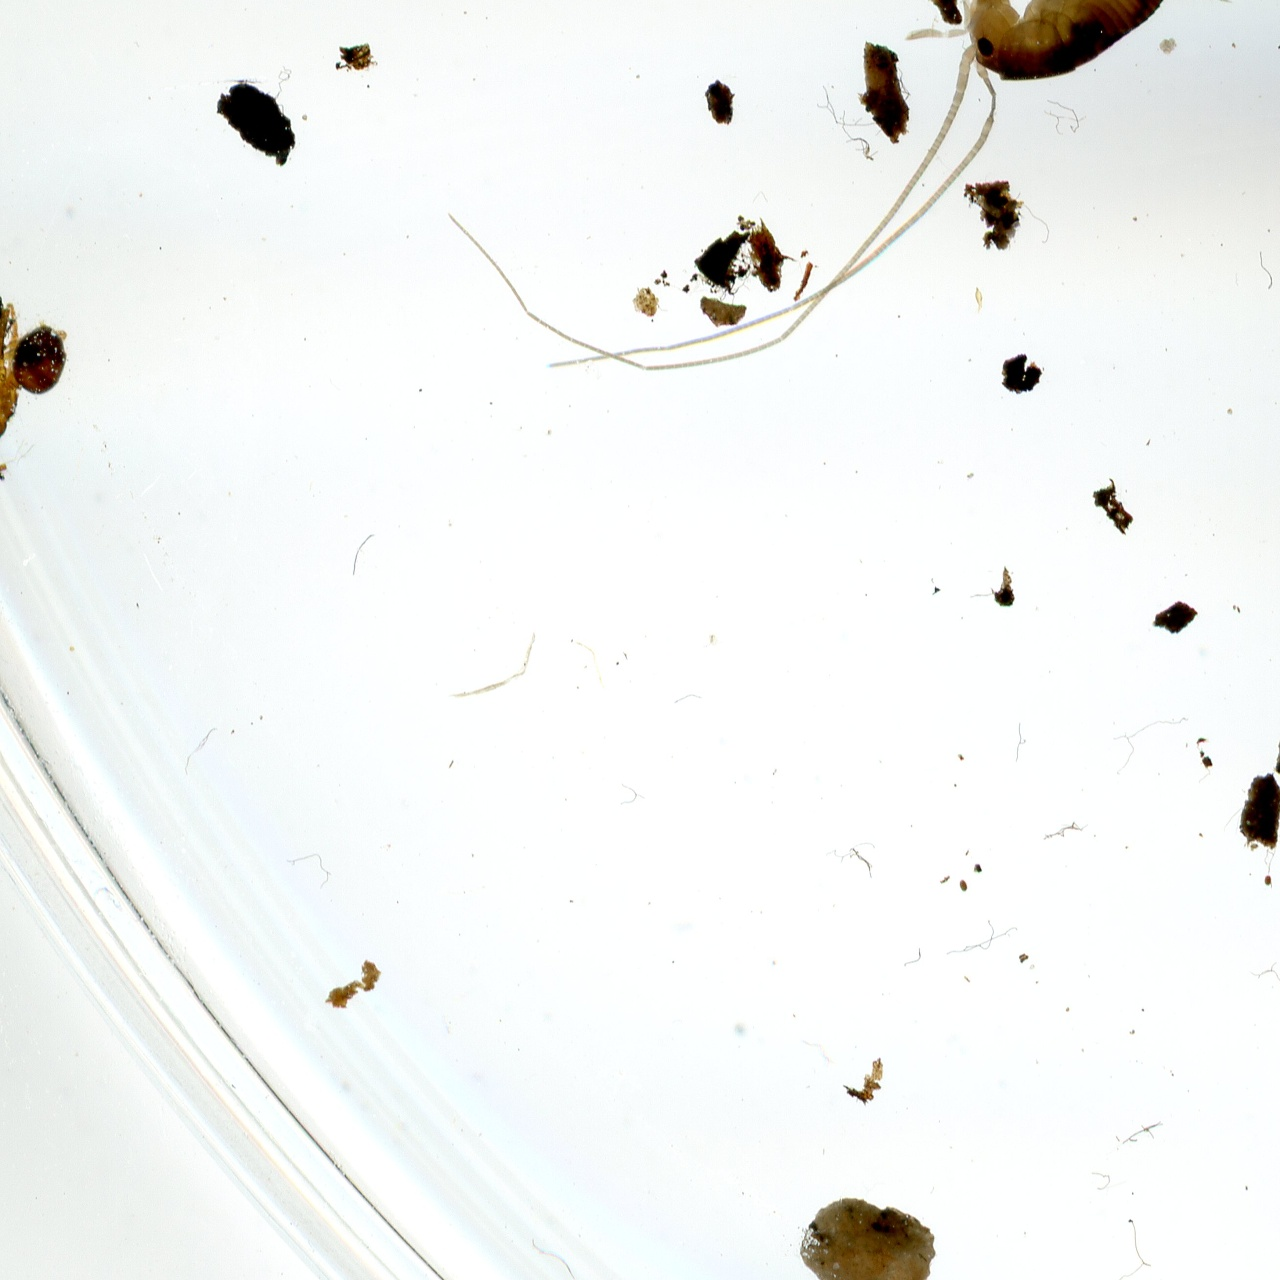arthropod: (411, 0, 1280, 502)
